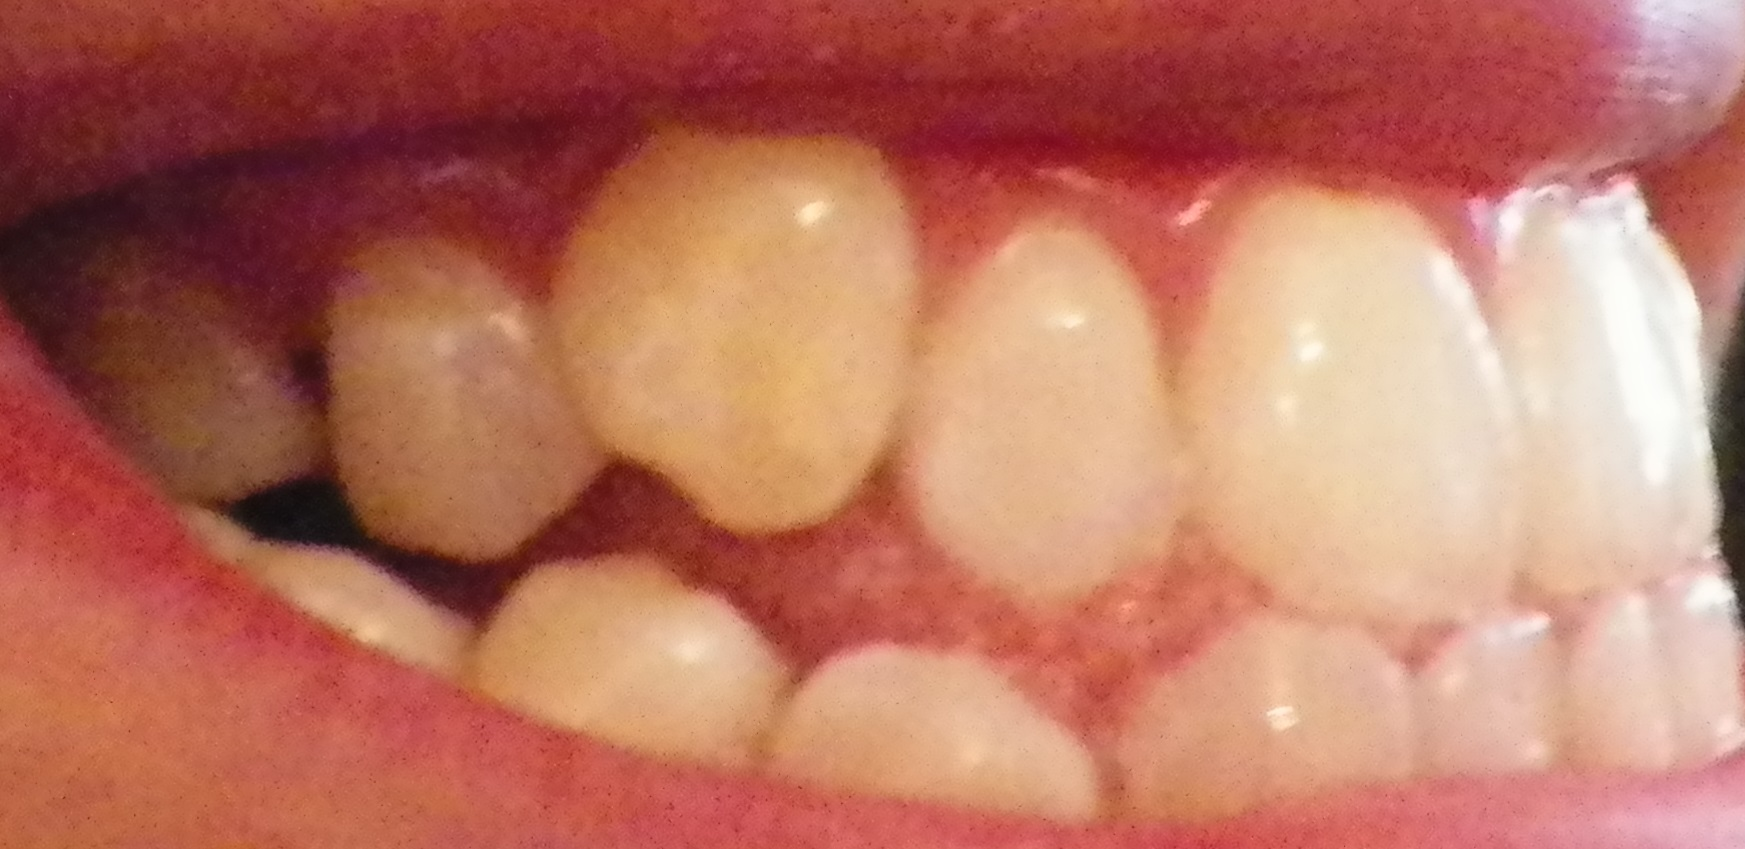boca: (73, 147, 1744, 813)
